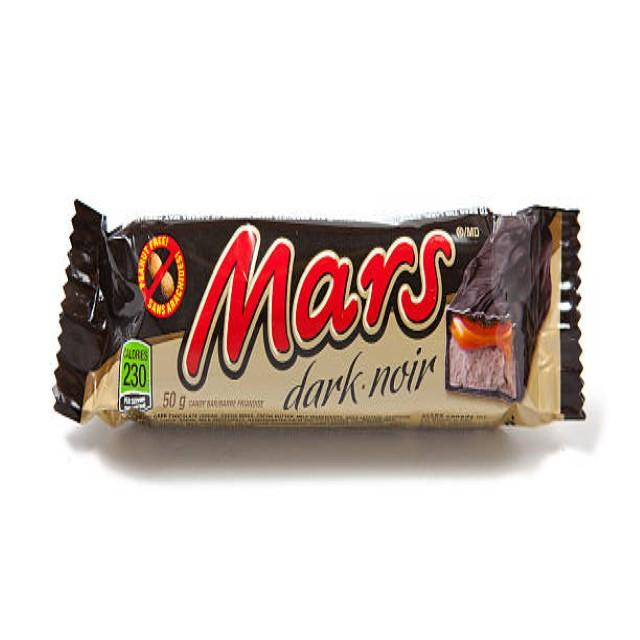mars_chocolate: (78, 210, 577, 438)
